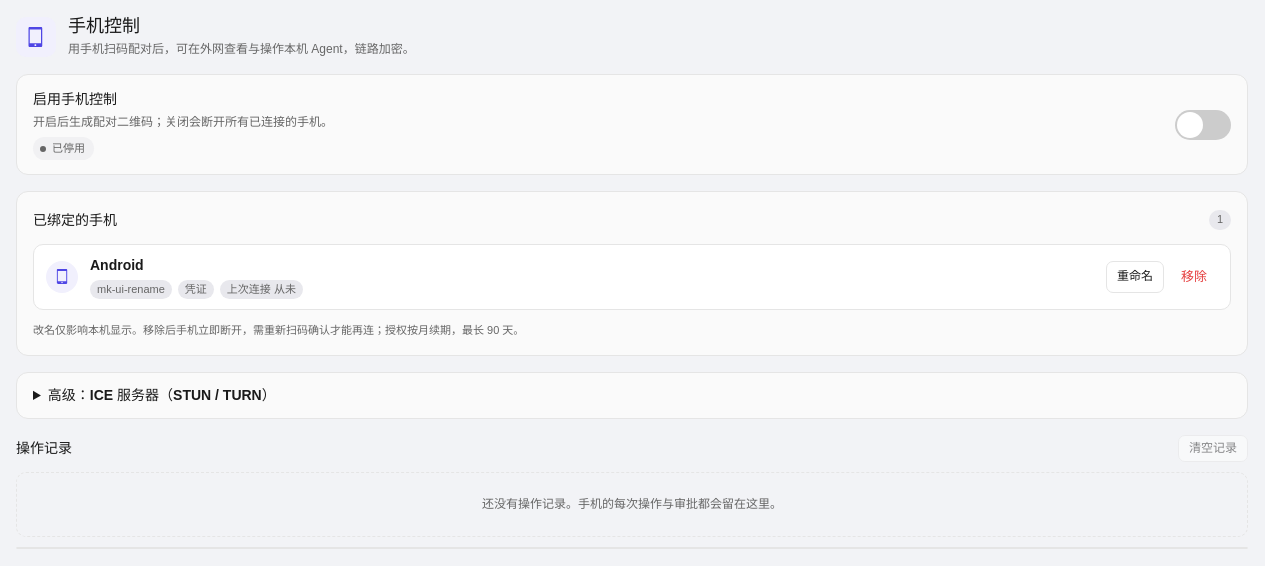
Test: 设置页 —— 已绑定手机的改名 › 点「重命名」→ 输入框回填当前名并聚焦（直接打字即覆盖）
Click the button "重命名" at (1135, 277), box left=1106, top=261, right=1164, bottom=293
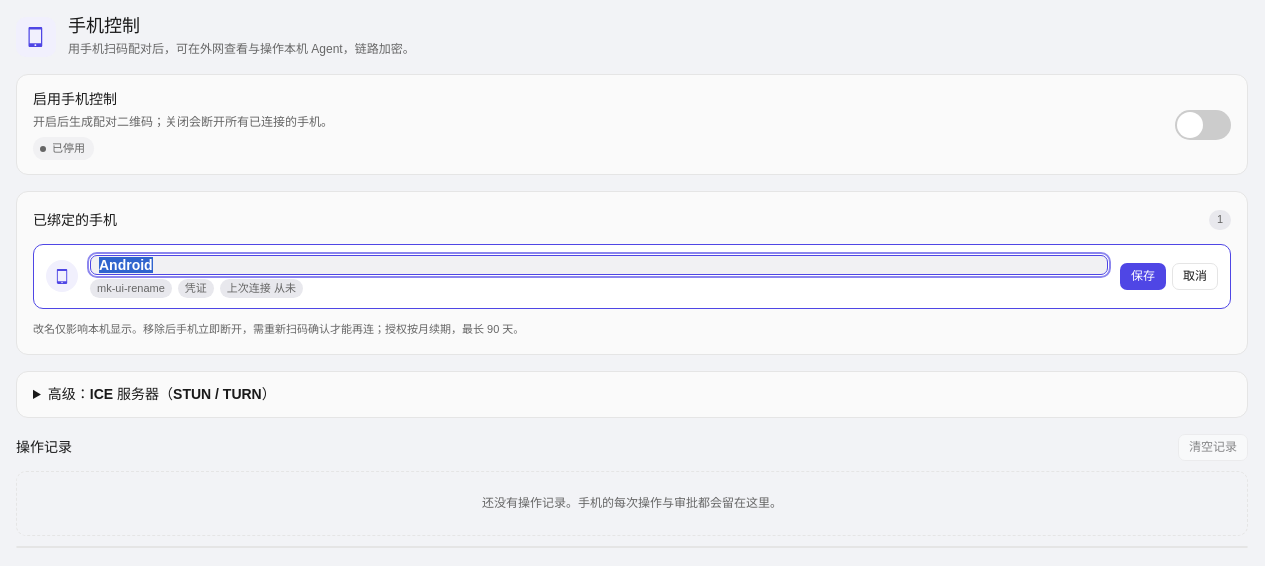
Expected: the button "保存" is shown, left=1120, top=263, right=1166, bottom=290
Expected: the field named "手机名称" holds "Android", left=90, top=255, right=1108, bottom=275
